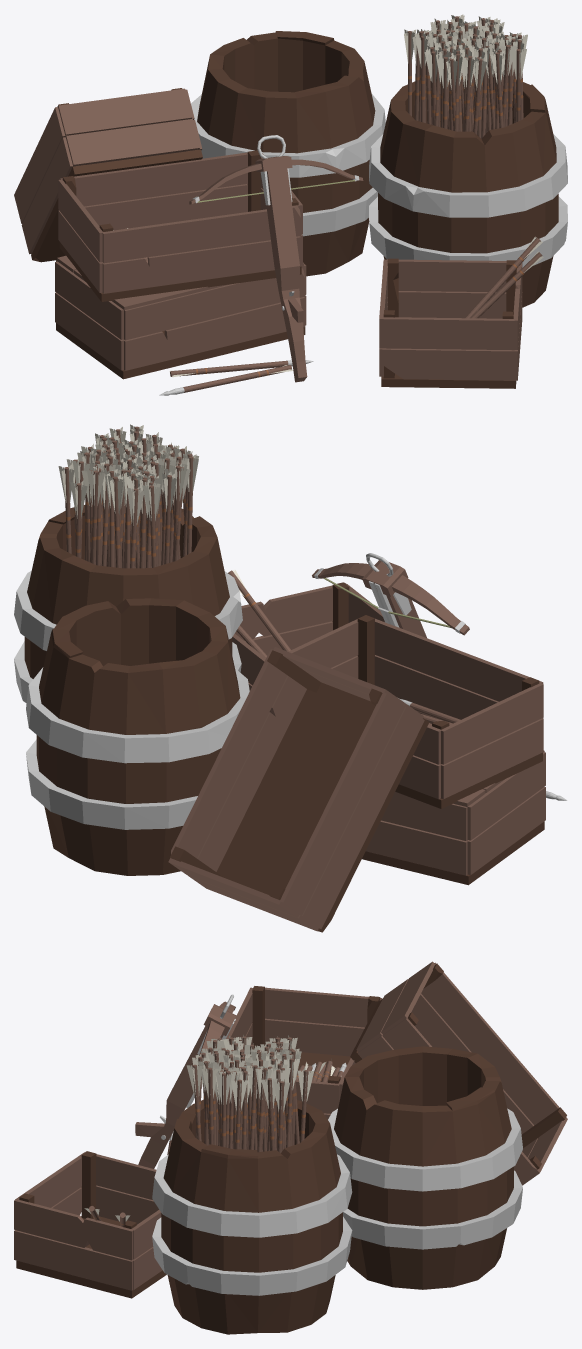
Rendered from Projectiles cache.fbx.
3 renders of one model, top to bottom at view 1: azimuth 30°, elevation 25°; view 2: azimuth 150°, elevation 25°; view 3: azimuth 270°, elevation 25°, orthographic. The views are drawn at different scales.
Visible parts, largest first — view 1: Projectiles cache; view 2: Projectiles cache; view 3: Projectiles cache.
Part boxes in pixels (<box>): Projectiles cache: <box>14,14,567,395</box>; Projectiles cache: <box>14,424,567,932</box>; Projectiles cache: <box>14,961,567,1334</box>.
Size of the model in its own units: 3.28 by 1.74 by 3.49.
